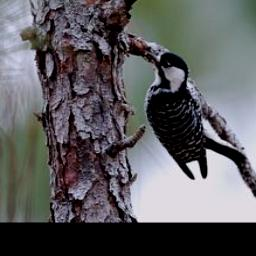Woodpecker: (139, 46, 247, 180)
